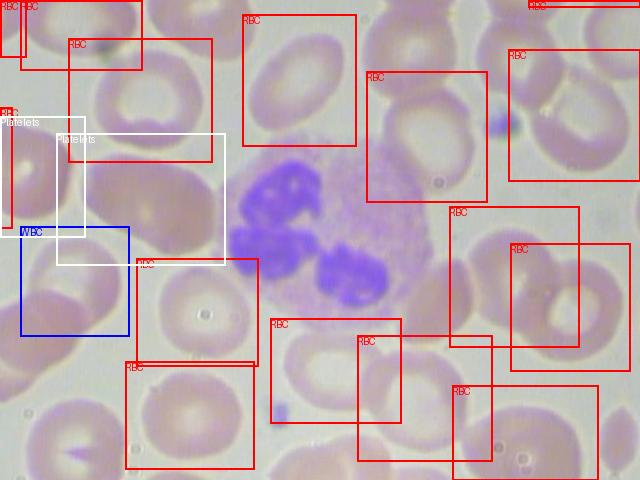Platelets: (56, 133, 225, 265), (0, 116, 85, 237)
RBC: (449, 206, 579, 347), (68, 38, 212, 162), (508, 49, 640, 181), (357, 335, 492, 461), (366, 71, 487, 202), (510, 243, 630, 371), (242, 14, 356, 146), (125, 361, 254, 469), (452, 385, 598, 480), (270, 318, 401, 423), (136, 258, 258, 366), (20, 0, 142, 70), (0, 0, 26, 57), (0, 107, 12, 228), (528, 0, 640, 7)
WBC: (20, 226, 129, 336)
